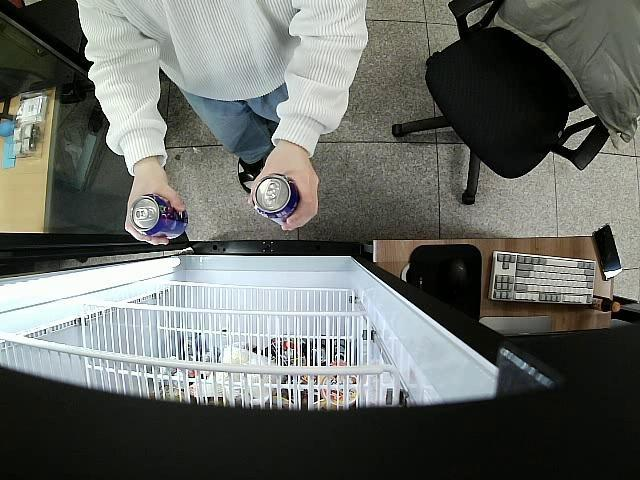14_welchsGrape: (130, 194, 188, 243), (250, 172, 299, 228)
